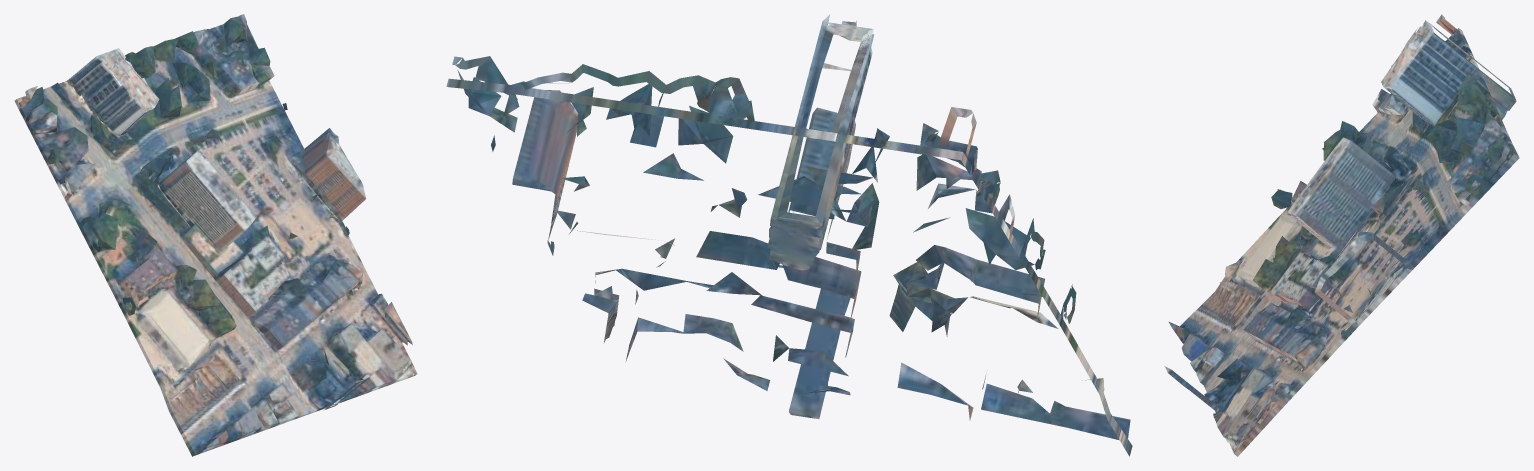
The model's file is AJVsH2z2Tng9bVYGNQqnaQfFrwUSaeIYedewa5vD3NbA93xmlbZxQLMR17XcJeHmvpA94hH4ZoeZMuyh-_S8DU_jVU0MtxmwJMetuyeZ6irbYQz1SM0PvyLW3wou8Q6f-W65KBZBshGQx4OyfeVXpzw3QowNIaHCeA.glb.
The picture shows the model from 3 angles, left to right: view 1: azimuth 30°, elevation 25°; view 2: azimuth 150°, elevation 25°; view 3: azimuth 270°, elevation 25°; orthographic projection. The views are drawn at different scales.
Bounding box in the file's own units: 257 × 264 × 261.
2 materials, 2 textured.
